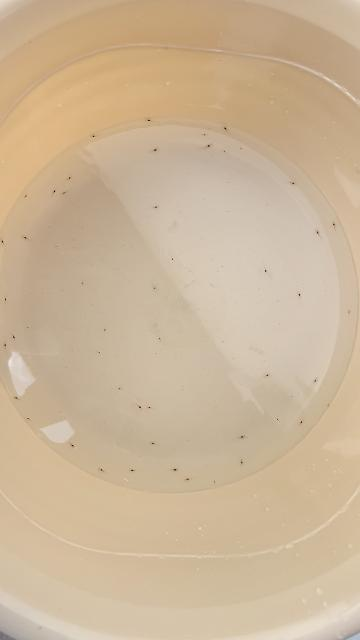benur: (135, 402, 144, 411), (314, 228, 322, 238), (202, 142, 213, 149), (221, 125, 229, 133), (69, 441, 77, 449), (312, 377, 319, 385), (236, 434, 247, 439), (150, 441, 159, 447), (184, 477, 194, 482), (150, 204, 160, 209), (264, 263, 268, 275), (288, 181, 297, 186), (300, 417, 305, 426), (333, 221, 337, 232), (52, 188, 58, 195), (128, 468, 138, 472), (12, 395, 20, 400), (11, 333, 16, 341), (151, 147, 159, 152), (170, 468, 179, 472), (23, 193, 29, 199), (98, 467, 105, 472), (145, 118, 152, 123), (298, 291, 302, 299), (263, 374, 271, 378), (240, 457, 244, 465), (21, 235, 29, 239), (26, 416, 32, 421), (170, 256, 175, 262), (4, 294, 7, 304), (67, 175, 73, 180), (276, 416, 280, 423), (158, 337, 163, 342), (0, 238, 5, 243), (61, 191, 66, 196), (201, 133, 209, 136), (90, 135, 98, 138), (4, 342, 7, 349), (96, 350, 101, 354), (104, 327, 108, 332), (348, 309, 351, 315), (147, 407, 155, 409), (222, 149, 226, 153), (327, 402, 330, 407), (117, 387, 122, 390), (82, 280, 84, 285)
